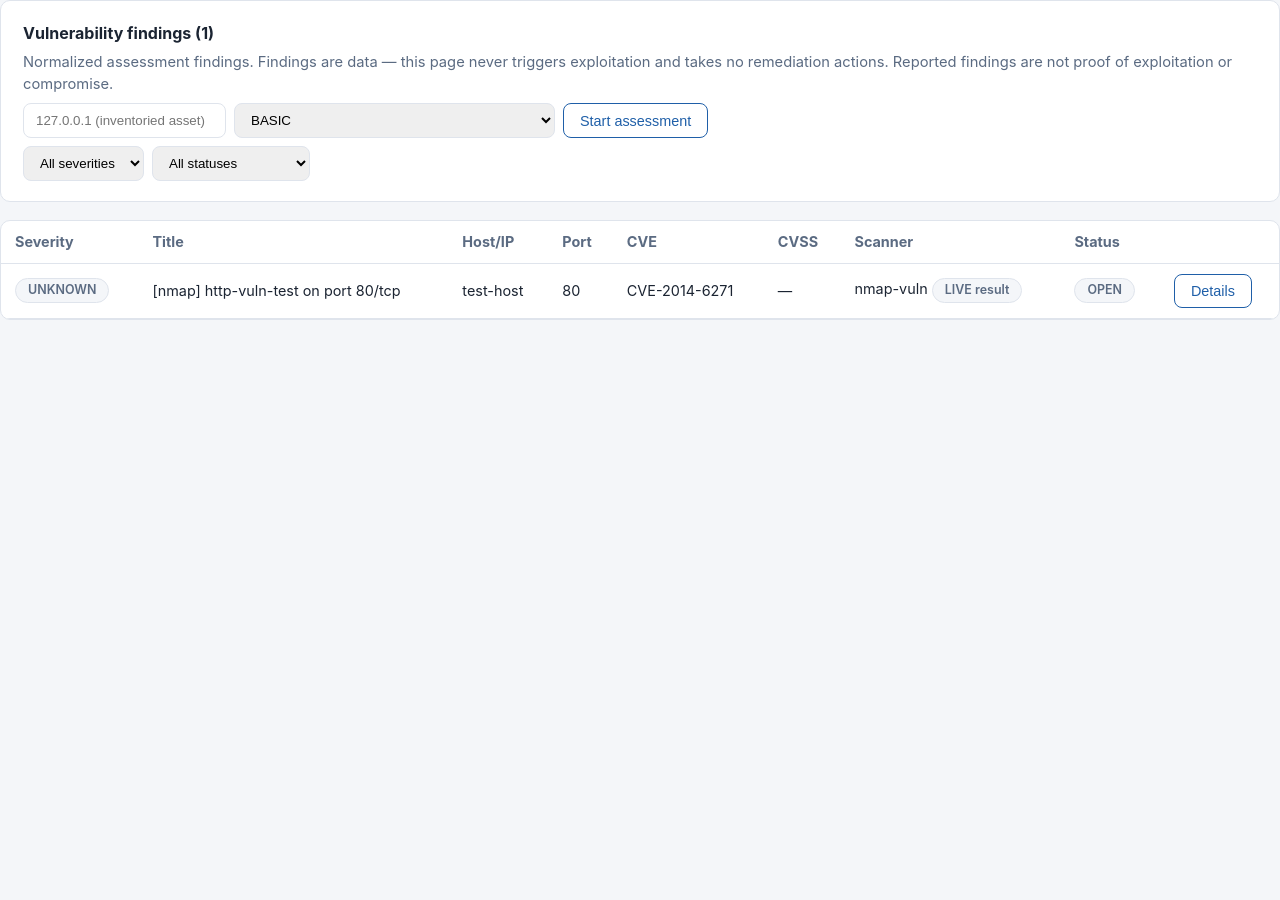
Vulnerabilities assessment flow (Step 22) › reports the visible and total audit counts when metadata is present
This screenshot has width=1280, height=900.
What coordinates should you click on to do the following:
click the button "Details"
I would click on:
 (1213, 291)
Its box is [1174,274,1252,308].
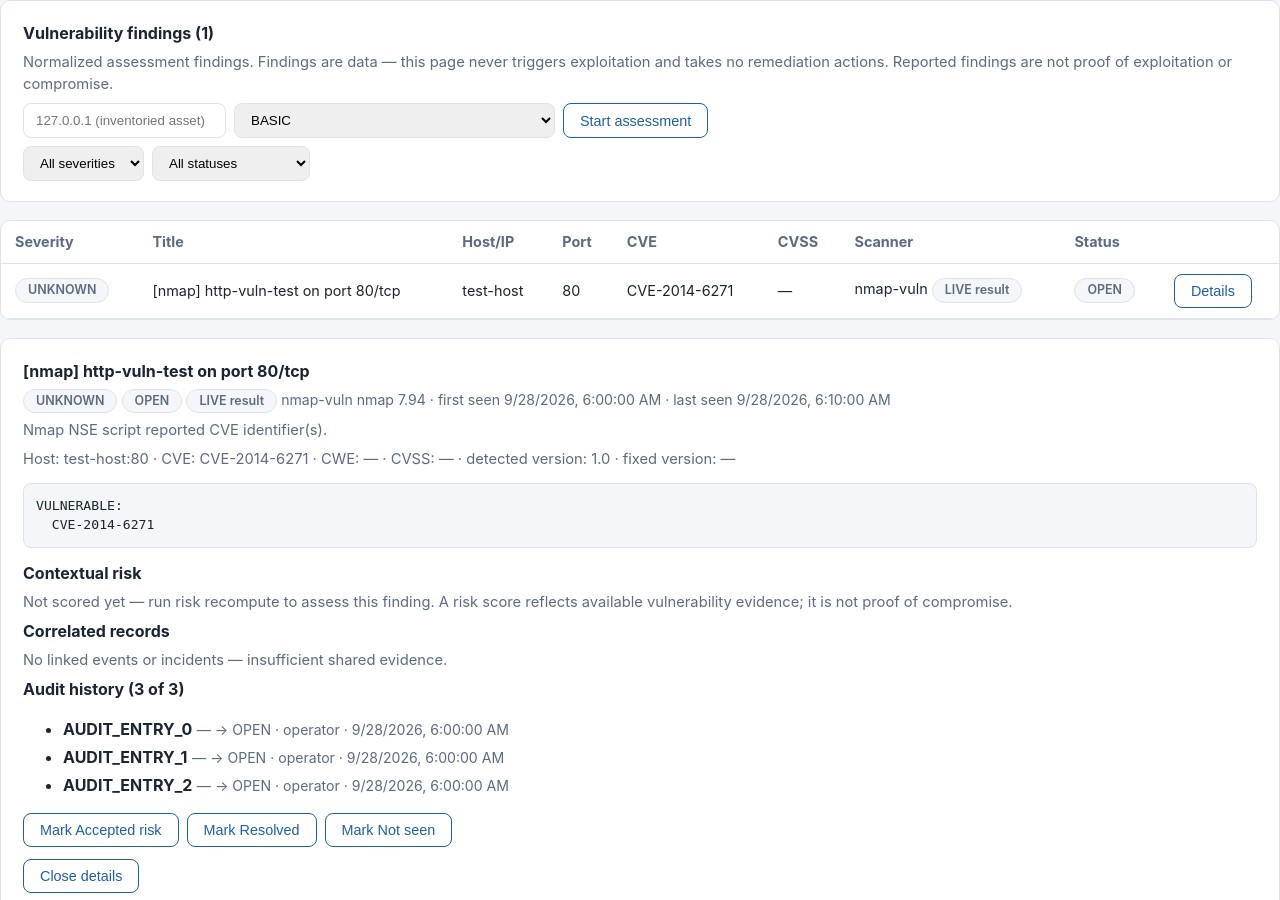
Expected: the heading "Audit history (3 of 3)" is shown, [23,679,184,699]
